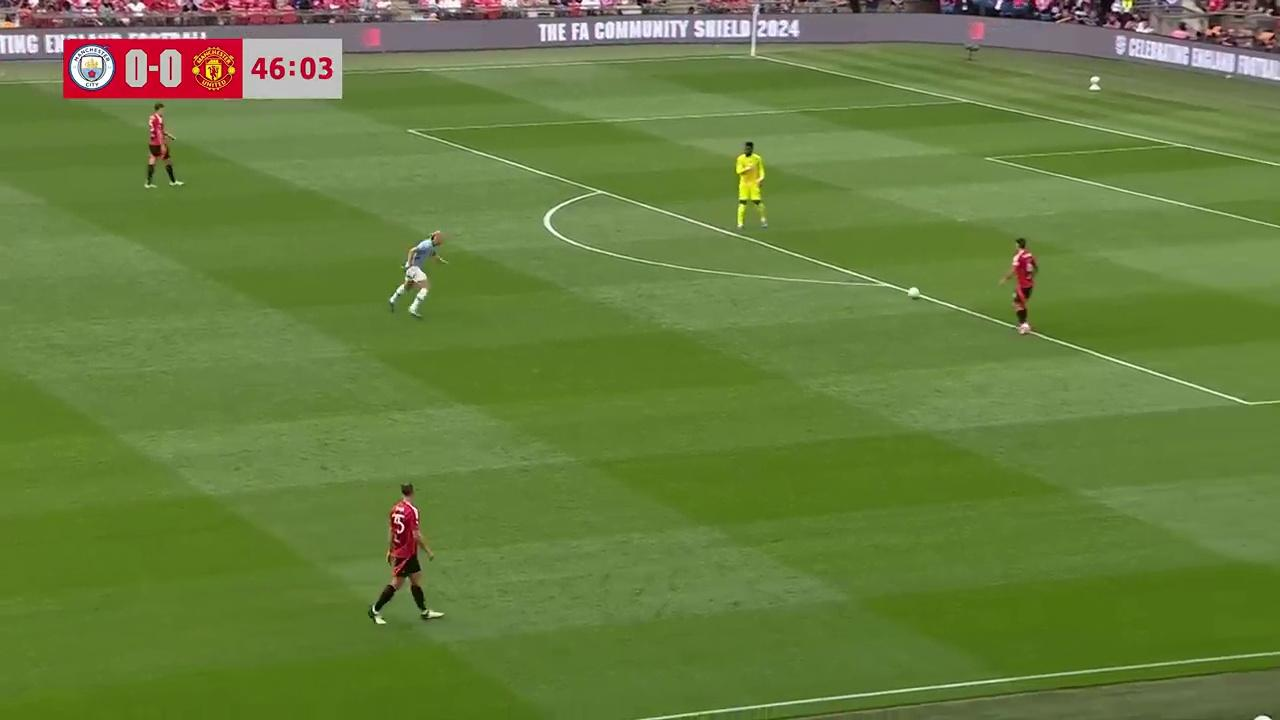ball: (906, 283, 921, 300)
player: (368, 481, 439, 625), (387, 225, 447, 317), (999, 238, 1038, 334), (143, 105, 183, 188), (734, 140, 768, 230)
